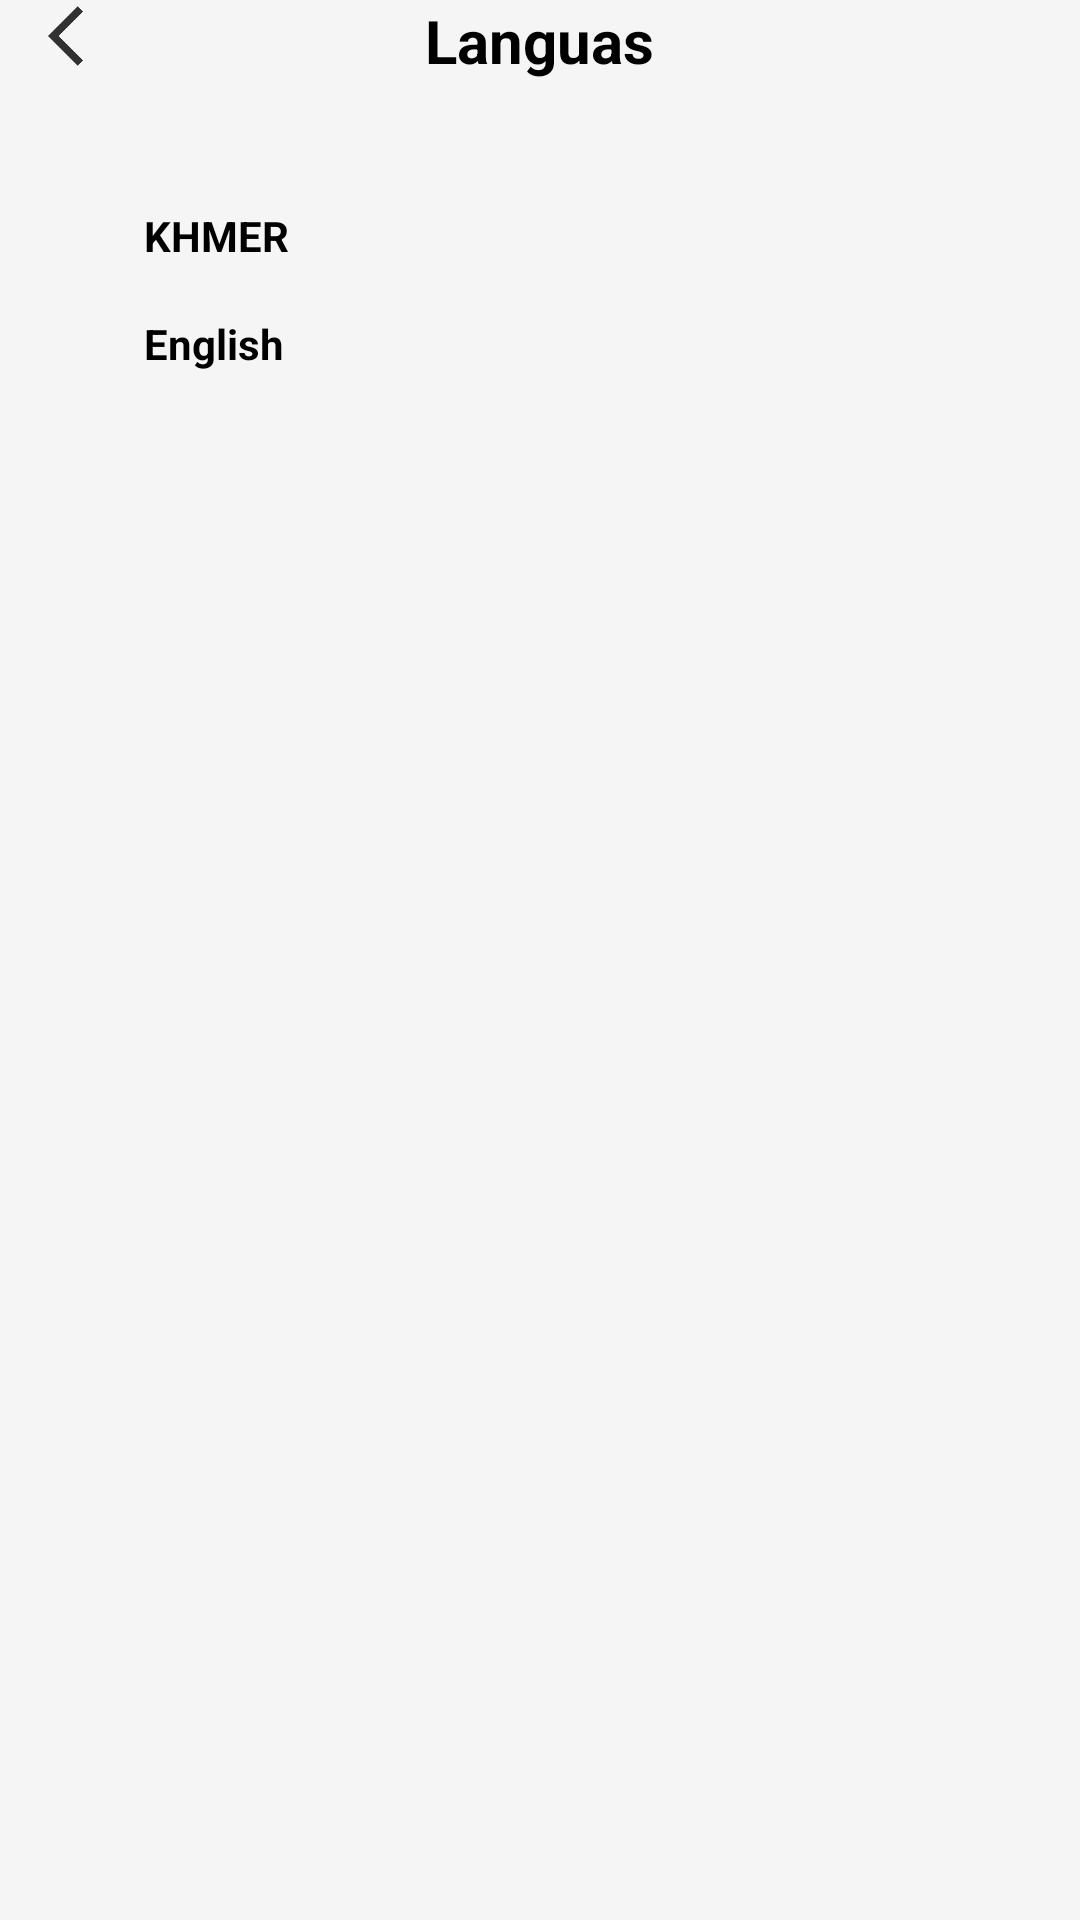

Where icons sit on this 1080×1920 app screen, as [left=x1, top=y1, right=x2, bottom=y2]:
arrow backe: [left=48, top=6, right=83, bottom=66]
